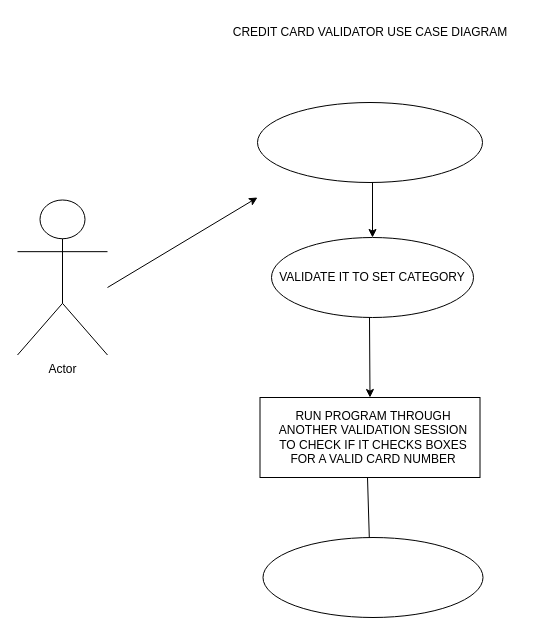
Image size: 537x635. Some labels were removed from this diagram. Each missing label, with the box of its shape:
COLLECT USERS CARD NUMBER: (256, 102, 482, 182)
PROMPT USER FOR VALIDITY STATUS: (262, 536, 483, 618)
